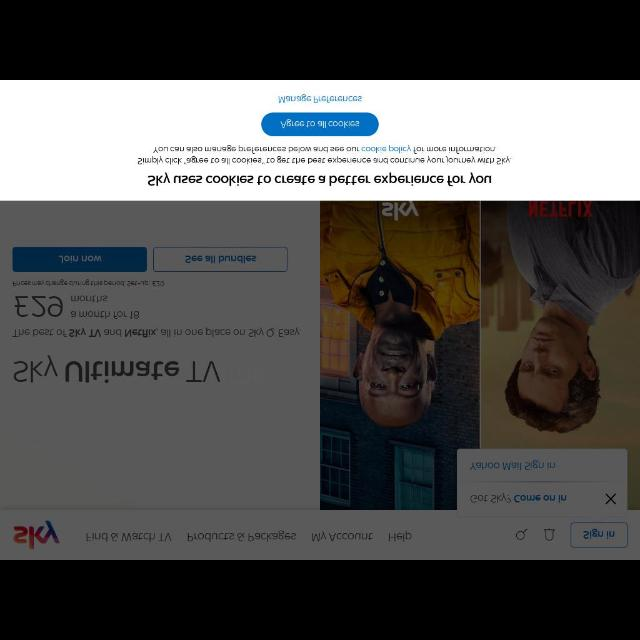icon: (539, 526, 559, 542), (604, 492, 618, 508), (513, 527, 529, 541)
image: (318, 201, 638, 509), (8, 516, 62, 558)
text: (138, 146, 512, 166), (13, 359, 220, 383), (146, 172, 492, 185), (15, 291, 140, 321), (12, 330, 298, 338), (472, 490, 566, 504), (81, 530, 175, 544), (12, 280, 164, 288), (188, 532, 298, 542), (278, 94, 362, 106), (312, 530, 374, 544), (470, 462, 556, 470), (388, 532, 412, 540)
textbutton: (12, 247, 146, 270), (153, 247, 287, 270), (263, 112, 379, 138), (573, 522, 627, 548)
toolbar: (1, 509, 639, 559)
